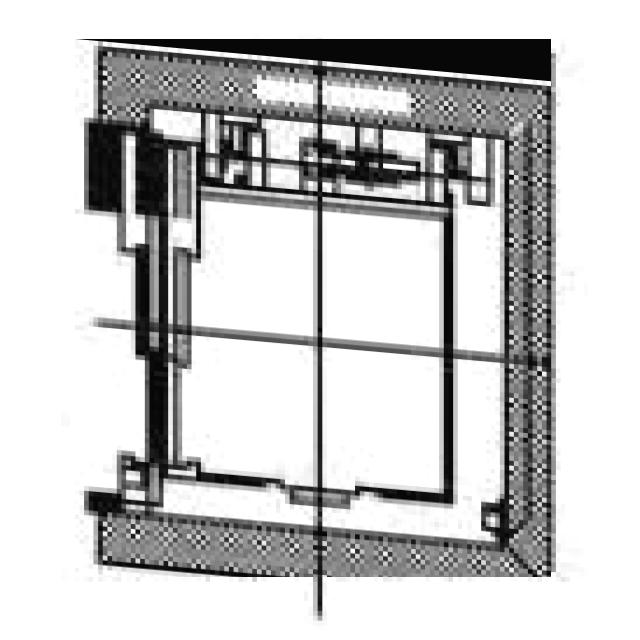lift: (75, 39, 551, 577)
